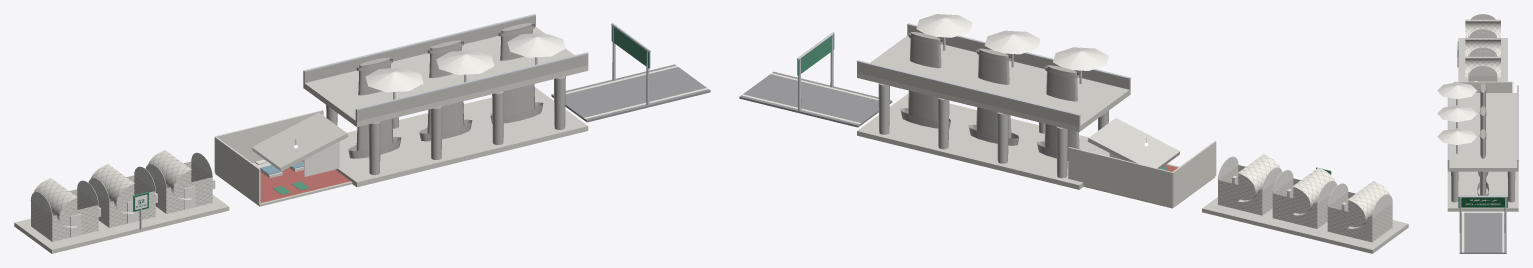
File: kit-46-mina-jamarat.glb
3 views of the same model, side by side, from view 1: azimuth 30°, elevation 25°; view 2: azimuth 150°, elevation 25°; view 3: azimuth 270°, elevation 25° (orthographic). The views are drawn at different scales.
Visible parts, largest first — view 1: Mina_JembatanJamarat, Mina_DeretanTenda, Mina_InteriorTenda, Mina_JalanSign; view 2: Mina_JembatanJamarat, Mina_DeretanTenda, Mina_InteriorTenda, Mina_JalanSign; view 3: Mina_JembatanJamarat, Mina_DeretanTenda, Mina_JalanSign, Mina_InteriorTenda.
Boxes of the visible parts, x1,y1,x2,y2 form: Mina_JembatanJamarat: (251,14,588,187); Mina_DeretanTenda: (14,150,229,253); Mina_InteriorTenda: (214,110,352,206); Mina_JalanSign: (551,23,710,122); Mina_JembatanJamarat: (856,14,1180,189); Mina_DeretanTenda: (1202,154,1408,253); Mina_InteriorTenda: (1068,137,1216,208); Mina_JalanSign: (739,32,892,127); Mina_JembatanJamarat: (1437,82,1518,211); Mina_DeretanTenda: (1457,14,1507,81); Mina_JalanSign: (1458,195,1507,253); Mina_InteriorTenda: (1453,81,1513,92).
Bounding box in the file's own units: 42.75 × 6.15 × 6.92.
15 materials, 3 textured.
